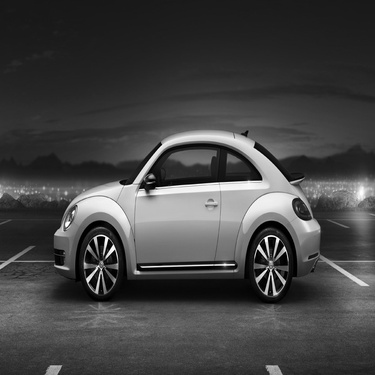car: (32, 123, 334, 300)
